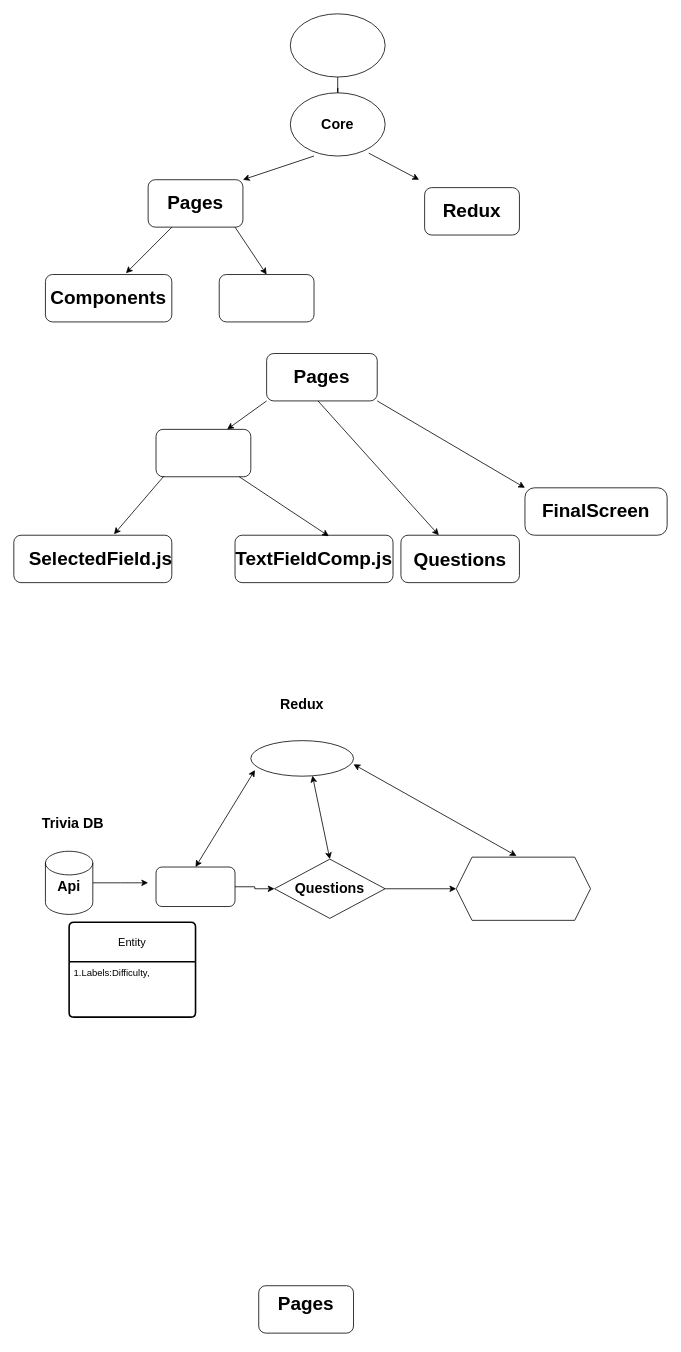
This 681x1352 diagram has some shape labels left out. The centre of each missing label's shape, as x and y in pixels:
"FinalScreen .js" goes at point 523,888.
"Hooks" goes at point 266,298.
"Quiz-app" goes at point 337,45.
"Settings" goes at point 203,453.
"Settings.js" goes at point 195,886.
"Store" goes at point 302,758.
